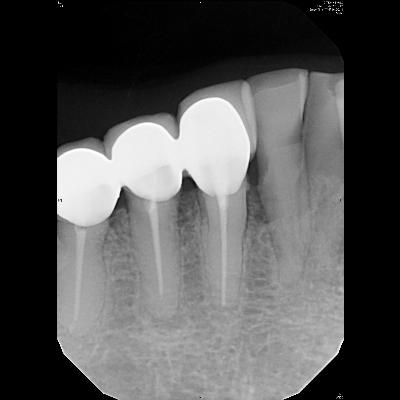tooth: (242, 66, 312, 286)
